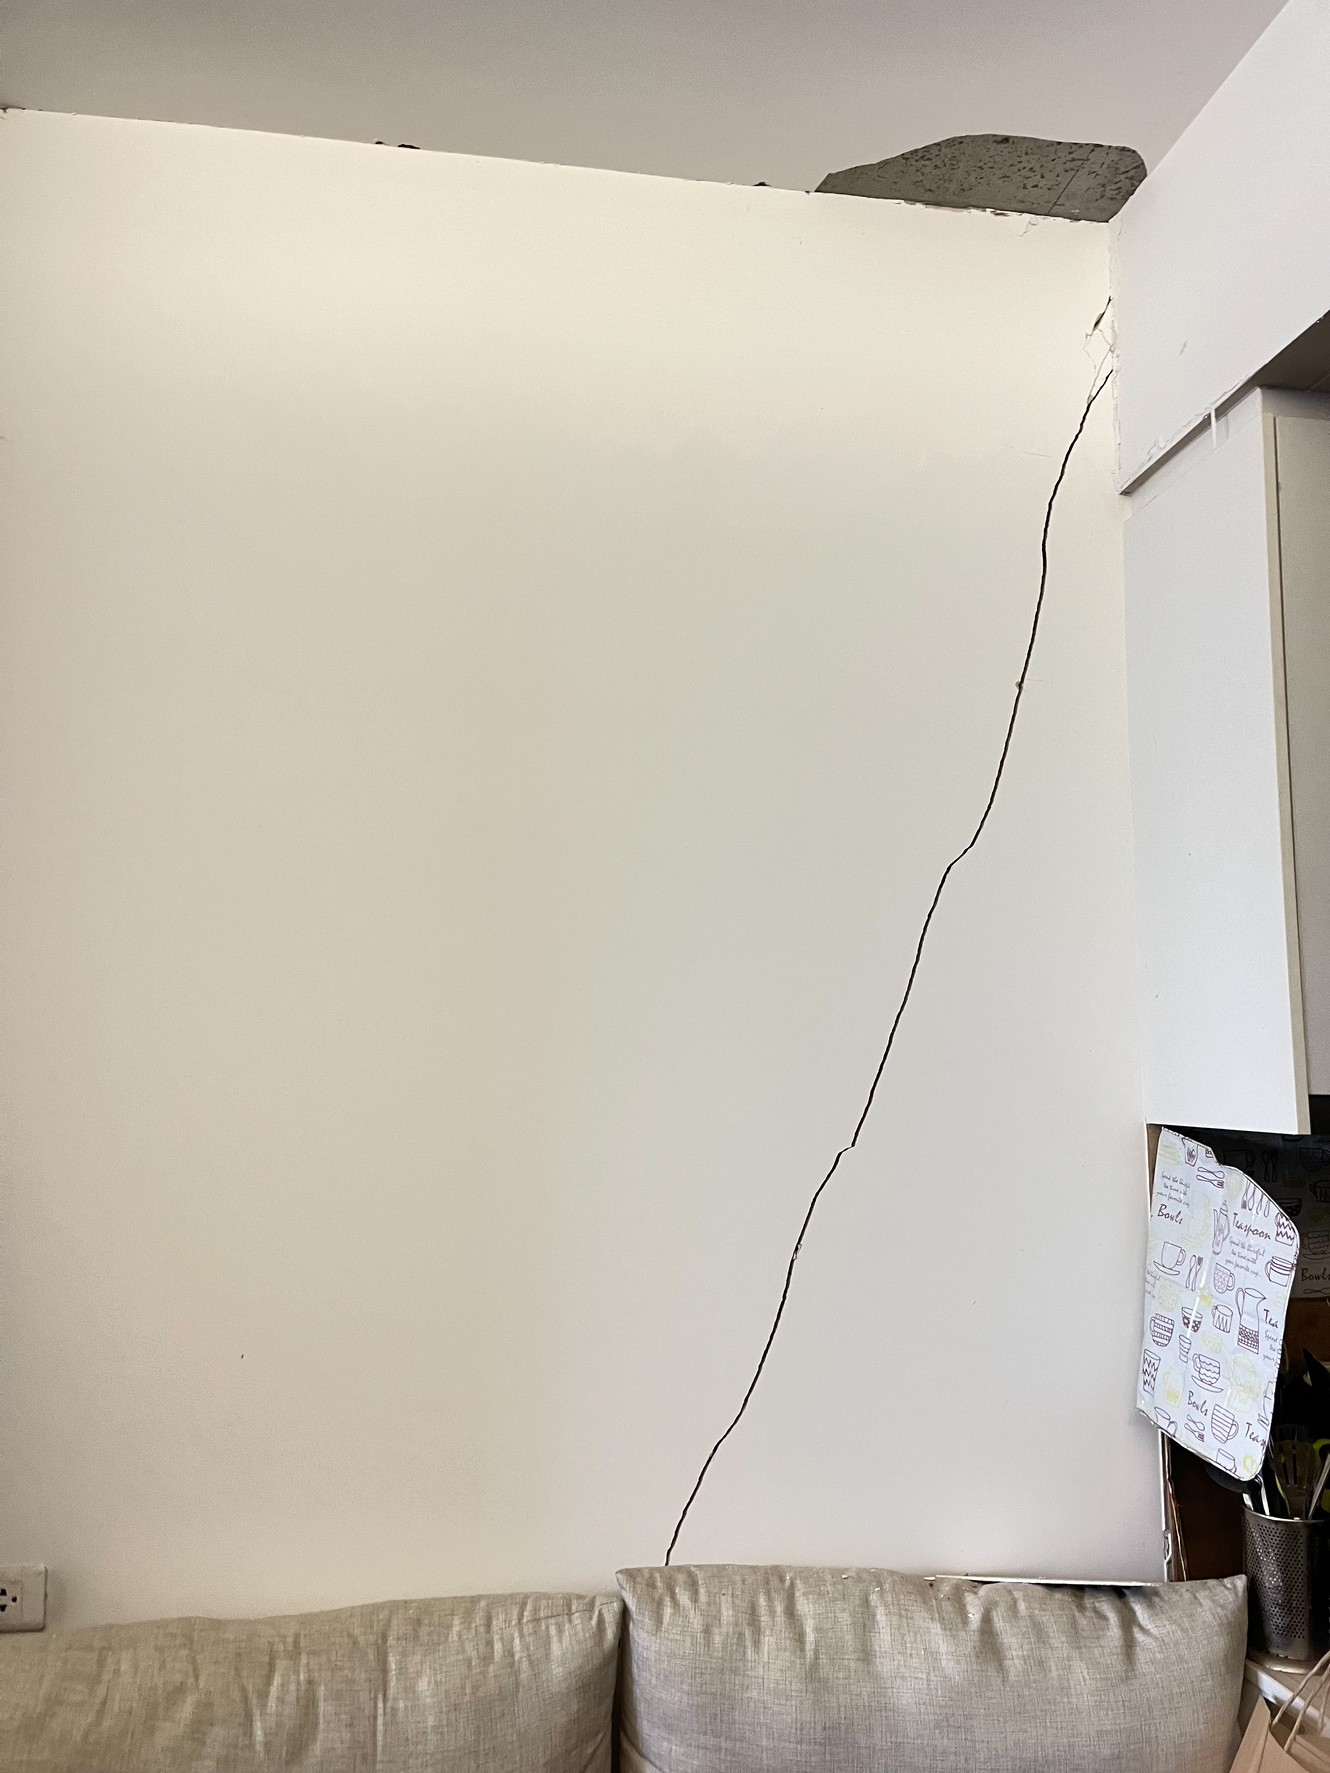High: (594, 95, 1171, 1577)
